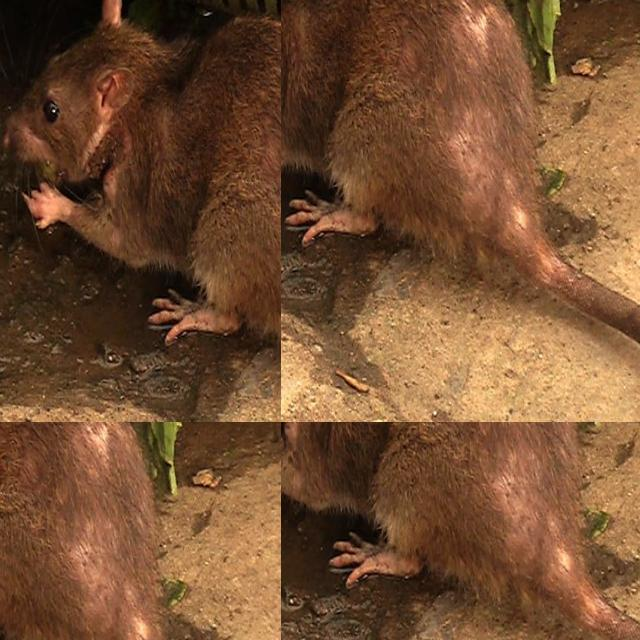rat: (281, 422, 588, 608), (0, 210, 94, 360), (67, 114, 136, 255)
